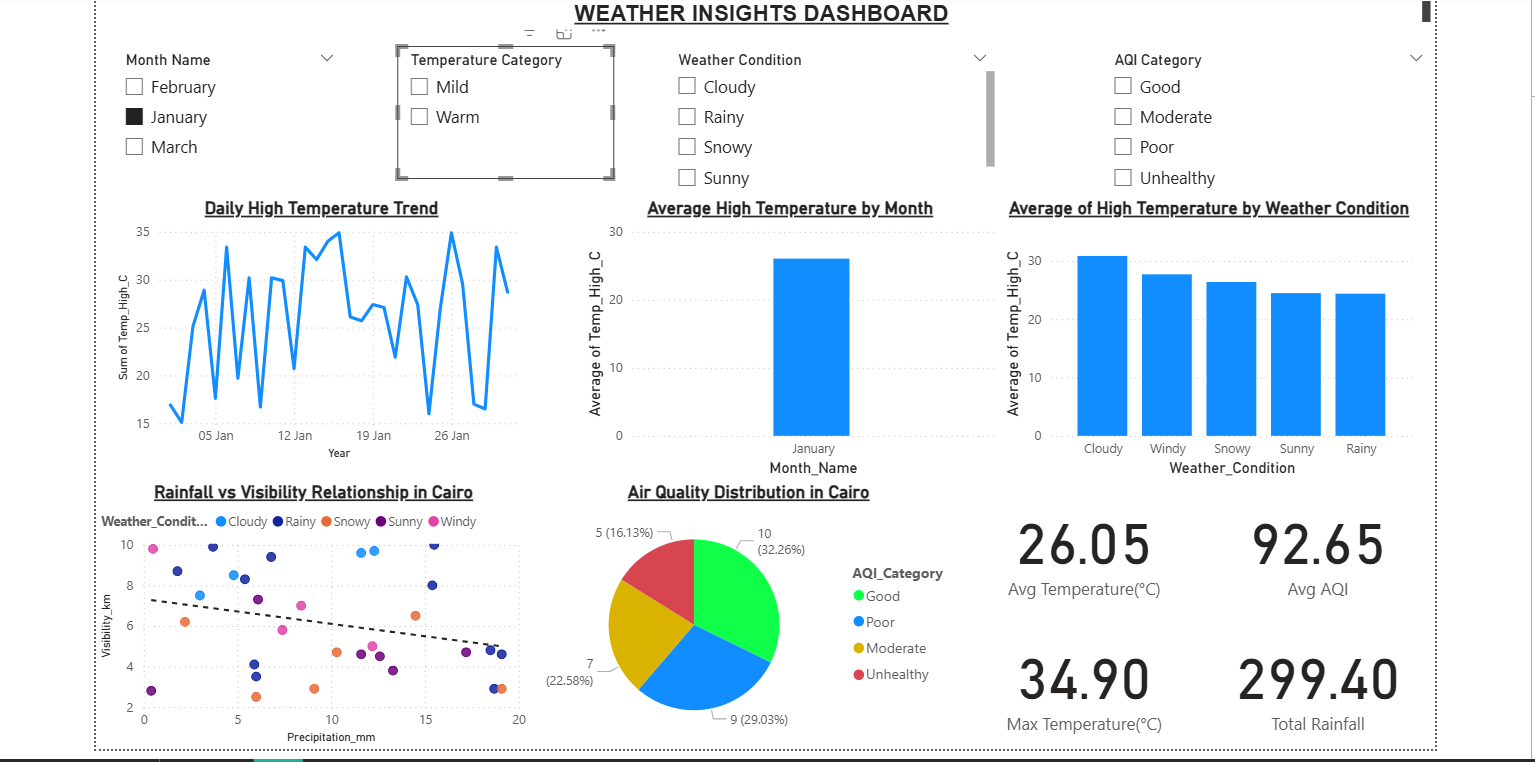

The page's visual inventory and layout, read from the dashboard file:
{"tool":"powerbi","page":{"name":"Page 1","canvas":[1280,720],"ordinal":0},"visuals":[{"type":"lineChart","title":"Daily High Temperature Trend","fields":{"Category":["Weather_Data.Date.Variation.Date Hierarchy.Year","Weather_Data.Date.Variation.Date Hierarchy.Quarter","Weather_Data.Date.Variation.Date Hierarchy.Month","Weather_Data.Date.Variation.Date Hierarchy.Day"],"Y":["Sum(Weather_Data.Temp_High_C)"]},"box":[16,192,400,256],"z":0},{"type":"clusteredColumnChart","title":"Average High Temperature by Month","fields":{"Category":["Weather_Data.Month_Name"],"Y":["Avg(Weather_Data.Temp_High_C)"]},"box":[464,192,400,272],"z":1000},{"type":"clusteredColumnChart","title":"Average of High Temperature by Weather Condition","fields":{"Y":["Avg(Weather_Data.Temp_High_C)"],"Category":["Weather_Data.Weather_Condition"]},"box":[864,192,400,272],"z":2000},{"type":"pieChart","title":"Air Quality Distribution in Cairo","fields":{"Category":["Weather_Data.AQI_Category"],"Y":["CountNonNull(Weather_Data.Date)"]},"box":[416,464,416,256],"z":3000},{"type":"scatterChart","title":"Rainfall vs Visibility Relationship in Cairo","fields":{"X":["Weather_Data.Precipitation_mm"],"Y":["Weather_Data.Visibility_km"],"Series":["Weather_Data.Weather_Condition"]},"box":[0,464,416,256],"z":4000},{"type":"card","fields":{"Values":["Avg(Weather_Data.Temp_High_C)"]},"box":[832,464,224,128],"z":5000},{"type":"card","fields":{"Values":["Max(Weather_Data.Temp_High_C)"]},"box":[832,592,224,128],"z":6000},{"type":"card","fields":{"Values":["Avg(Weather_Data.Air_Quality_Index)"]},"box":[1056,464,224,128],"z":7000},{"type":"card","fields":{"Values":["Sum(Weather_Data.Precipitation_mm)"]},"box":[1056,592,224,128],"z":8000},{"type":"slicer","fields":{"Values":["Weather_Data.Month_Name"]},"box":[16,48,224,128],"z":9000},{"type":"slicer","fields":{"Values":["Weather_Data.Weather_Condition"]},"box":[544,48,320,144],"z":10000},{"type":"slicer","fields":{"Values":["Weather_Data.Temp_Category"]},"box":[288,48,208,128],"z":11000},{"type":"slicer","fields":{"Values":["Weather_Data.AQI_Category"]},"box":[960,48,320,144],"z":12000},{"type":"textbox","box":[0,0,1280,32],"z":13000}]}

Visuals, with their boxes on the page's 1280x720 design canvas (x1, y1, x2, y2). These are canvas units, not pixel positions in the 1535x762 screenshot, which may show the page scaled, cropped or inside an application window:
"Daily High Temperature Trend" lineChart: 16,192,416,448
"Average High Temperature by Month" clusteredColumnChart: 464,192,864,464
"Average of High Temperature by Weather Condition" clusteredColumnChart: 864,192,1264,464
"Air Quality Distribution in Cairo" pieChart: 416,464,832,720
"Rainfall vs Visibility Relationship in Cairo" scatterChart: 0,464,416,720
card - Avg(Weather_Data.Temp_High_C): 832,464,1056,592
card - Max(Weather_Data.Temp_High_C): 832,592,1056,720
card - Avg(Weather_Data.Air_Quality_Index): 1056,464,1280,592
card - Sum(Weather_Data.Precipitation_mm): 1056,592,1280,720
slicer - Weather_Data.Month_Name: 16,48,240,176
slicer - Weather_Data.Weather_Condition: 544,48,864,192
slicer - Weather_Data.Temp_Category: 288,48,496,176
slicer - Weather_Data.AQI_Category: 960,48,1280,192
textbox: 0,0,1280,32
